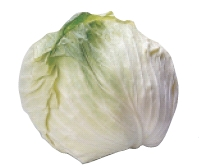cabbage: (11, 5, 186, 167)
